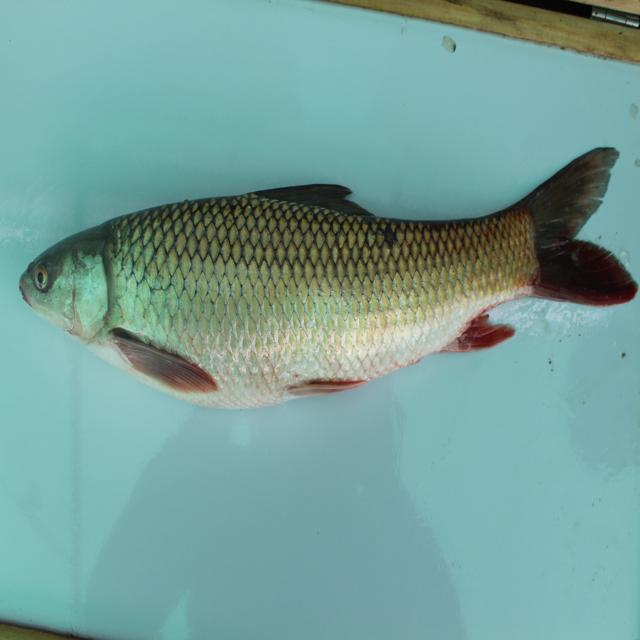Mori: (15, 159, 640, 413)
